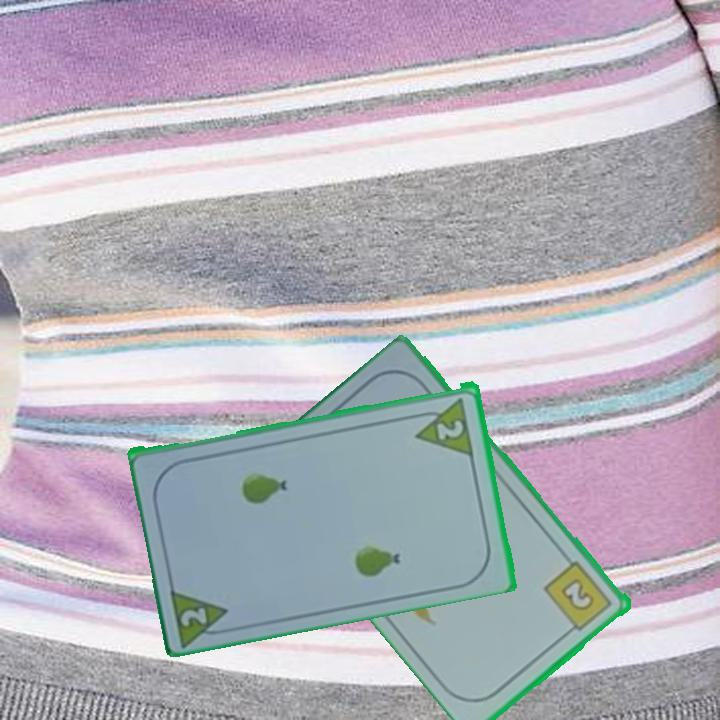2b: (541, 557, 616, 638)
2p: (167, 582, 236, 647), (433, 415, 467, 442)
